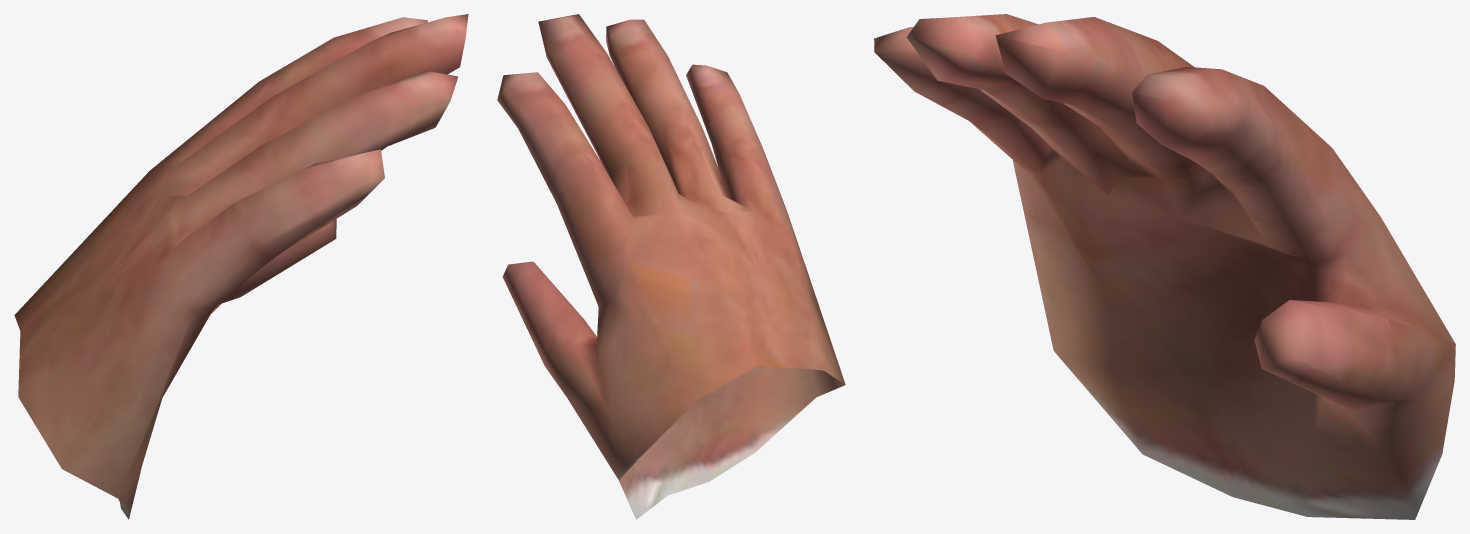
Rendered from mano.obj.
3 renders of one model, left to right at view 1: azimuth 30°, elevation 25°; view 2: azimuth 150°, elevation 25°; view 3: azimuth 270°, elevation 25°, orthographic. The views are drawn at different scales.
Parts seen in each view (by area): view 1: mano; view 2: mano; view 3: mano.
Part boxes in pixels (left/top/right/bottom): mano: left=14, top=14, right=468, bottom=519; mano: left=497, top=14, right=845, bottom=519; mano: left=874, top=14, right=1455, bottom=519.
Bounding box in the file's own units: 2.2 × 2.5 × 2.03.
Materials: 1 (1 with a texture image).
